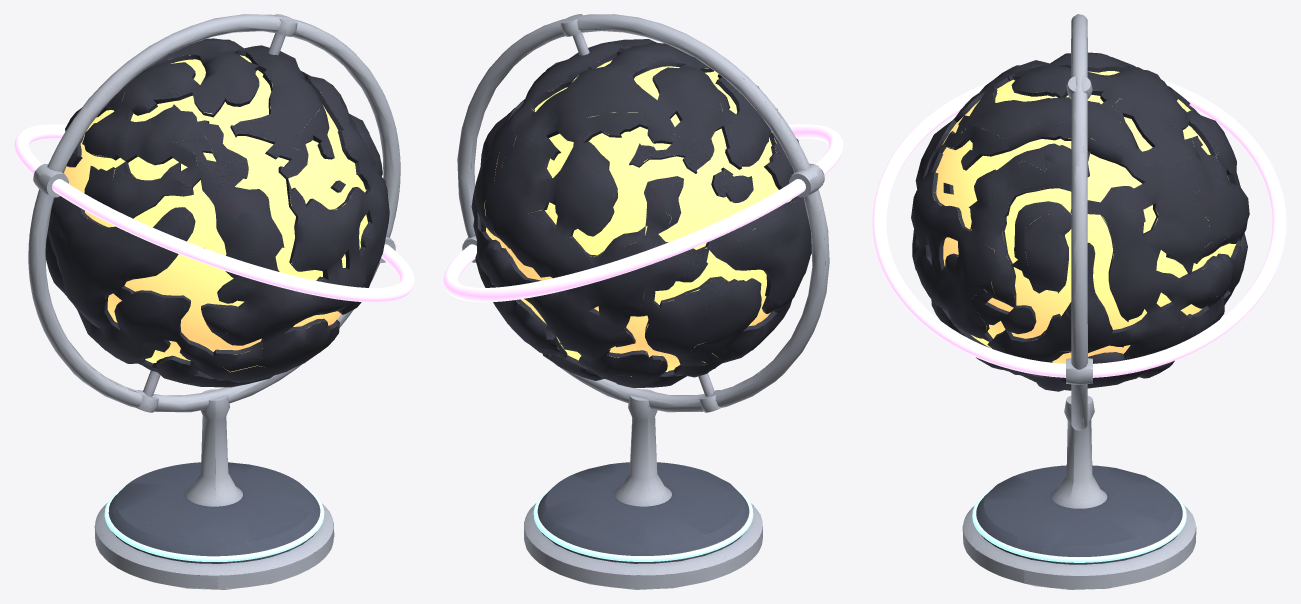
File: planet-generic.glb
3 renders of one model, left to right at view 1: azimuth 30°, elevation 25°; view 2: azimuth 150°, elevation 25°; view 3: azimuth 270°, elevation 25°, orthographic. The views are drawn at different scales.
Visible parts, largest first — view 1: planet-sphere_body, planet-sphere_lava_glow, planet-sphere_atmosphere_ring_glow, planet-sphere_base_ring_glow; view 2: planet-sphere_body, planet-sphere_lava_glow, planet-sphere_atmosphere_ring_glow, planet-sphere_base_ring_glow; view 3: planet-sphere_body, planet-sphere_lava_glow, planet-sphere_atmosphere_ring_glow, planet-sphere_base_ring_glow.
Boxes of the visible parts, x1,y1,x2,y2 form: planet-sphere_body: [28, 14, 400, 589]; planet-sphere_lava_glow: [64, 55, 369, 372]; planet-sphere_atmosphere_ring_glow: [14, 124, 414, 302]; planet-sphere_base_ring_glow: [104, 485, 324, 561]; planet-sphere_body: [457, 14, 829, 589]; planet-sphere_lava_glow: [484, 60, 791, 371]; planet-sphere_atmosphere_ring_glow: [443, 124, 843, 302]; planet-sphere_base_ring_glow: [533, 485, 753, 561]; planet-sphere_body: [911, 14, 1249, 589]; planet-sphere_lava_glow: [933, 71, 1235, 363]; planet-sphere_atmosphere_ring_glow: [872, 80, 1286, 377]; planet-sphere_base_ring_glow: [972, 488, 1186, 562].
Size of the model in its own units: 0.9377 by 1.27 by 0.932.
4 materials, 1 textured.
